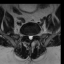CCS_normal: (29, 33, 31, 42)
LFS_severe_stenosis: (33, 33, 35, 37)
LLS_normal: (31, 33, 33, 39)
RFS_severe_stenosis: (26, 32, 28, 38)
RLS_stenosis: (28, 33, 30, 39)
